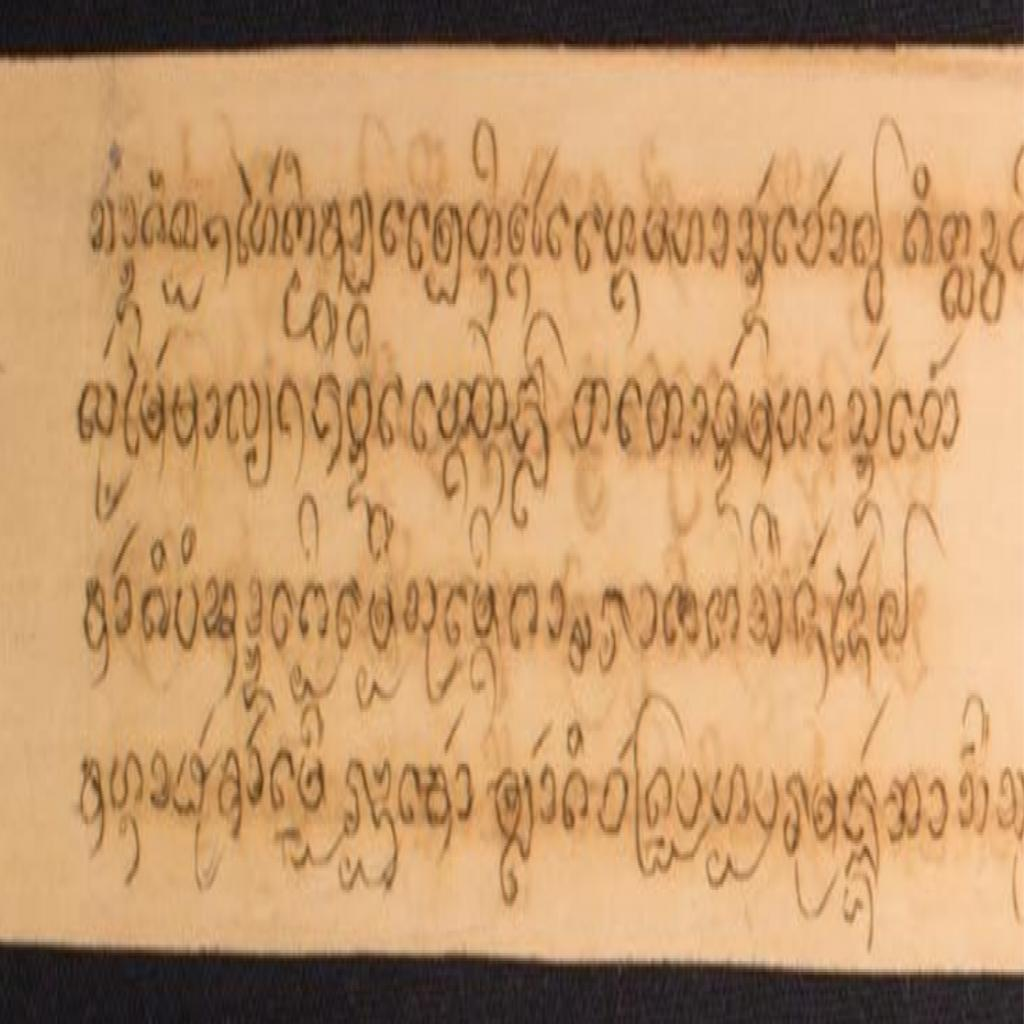LN003: (560, 763, 593, 841)
